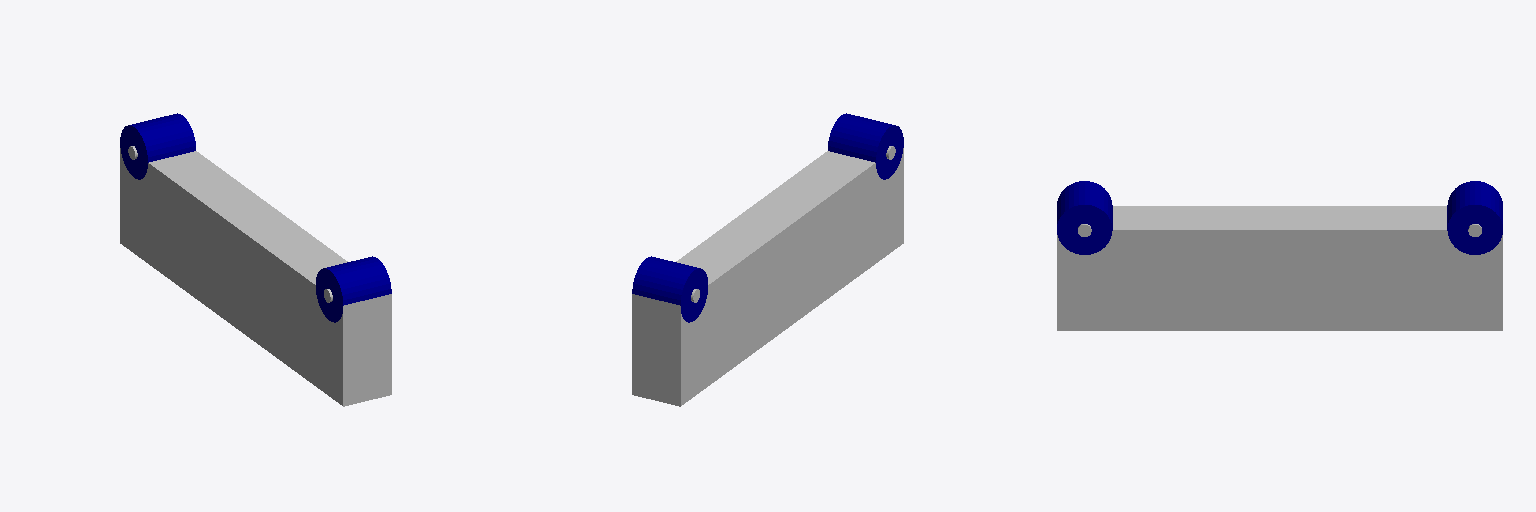
Rendered from body_palm_lpinvrpin.obj.
3 views of the same model, side by side, from view 1: azimuth 30°, elevation 25°; view 2: azimuth 150°, elevation 25°; view 3: azimuth 270°, elevation 25° (orthographic).
Parts seen in each view (by area): view 1: body_palm_lpinvrpin_Cube.008; view 2: body_palm_lpinvrpin_Cube.008; view 3: body_palm_lpinvrpin_Cube.008.
Boxes of the visible parts, box(x1,y1,x2,y2) form: body_palm_lpinvrpin_Cube.008: box(120, 113, 391, 406); body_palm_lpinvrpin_Cube.008: box(632, 113, 903, 406); body_palm_lpinvrpin_Cube.008: box(1057, 181, 1502, 330).
Size of the model in its own units: 0.022 by 0.05 by 0.16.